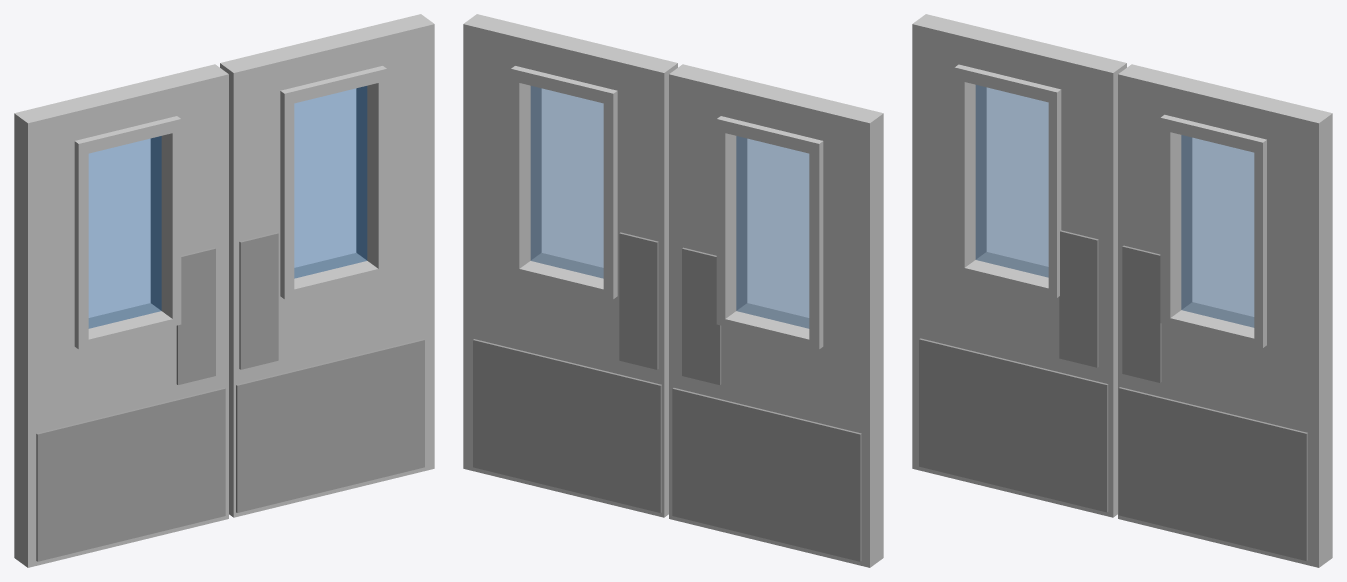
Rendered from doors.fbx.
3 views of the same model, side by side, from view 1: azimuth 30°, elevation 25°; view 2: azimuth 150°, elevation 25°; view 3: azimuth 330°, elevation 25° (orthographic).
Visible parts, largest first — view 1: pCube45, pCube46; view 2: pCube45, pCube46; view 3: pCube46, pCube45.
Part boxes in pixels (x1,y1,x2,y2): pCube45: (14, 64, 228, 567); pCube46: (220, 14, 434, 517); pCube45: (669, 64, 883, 567); pCube46: (463, 14, 677, 517); pCube46: (1118, 64, 1332, 567); pCube45: (912, 14, 1126, 517).
Size of the model in its own units: 9.86 by 10.3 by 0.9254.
